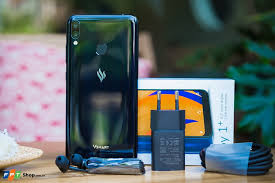vsmart: (62, 11, 146, 164)
